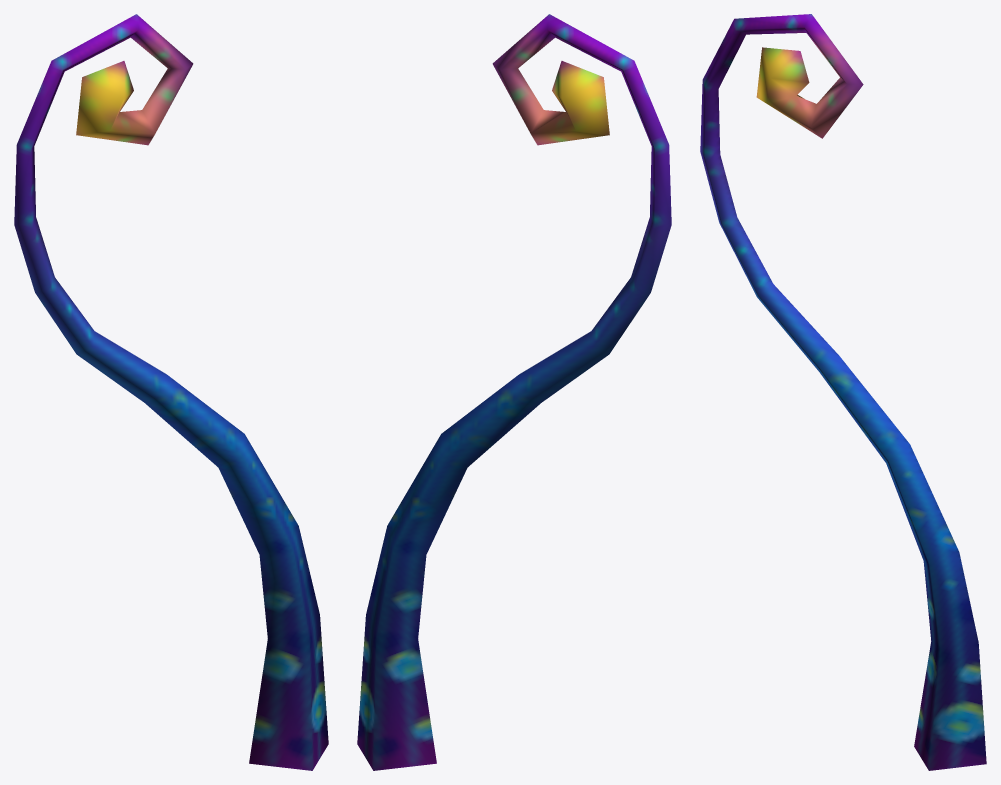
The model's file is Mushroom_04a.FBX.
3 renders of one model, left to right at view 1: azimuth 30°, elevation 25°; view 2: azimuth 150°, elevation 25°; view 3: azimuth 330°, elevation 25°, orthographic. The views are drawn at different scales.
Parts seen in each view (by area): view 1: Mushroom_04a; view 2: Mushroom_04a; view 3: Mushroom_04a.
Boxes of the visible parts, x1=… form: Mushroom_04a: x1=14, y1=14, x2=328, y2=770; Mushroom_04a: x1=357, y1=14, x2=671, y2=770; Mushroom_04a: x1=700, y1=14, x2=986, y2=770.
Bounding box in the file's own units: 70.16 × 166 × 18.23.
